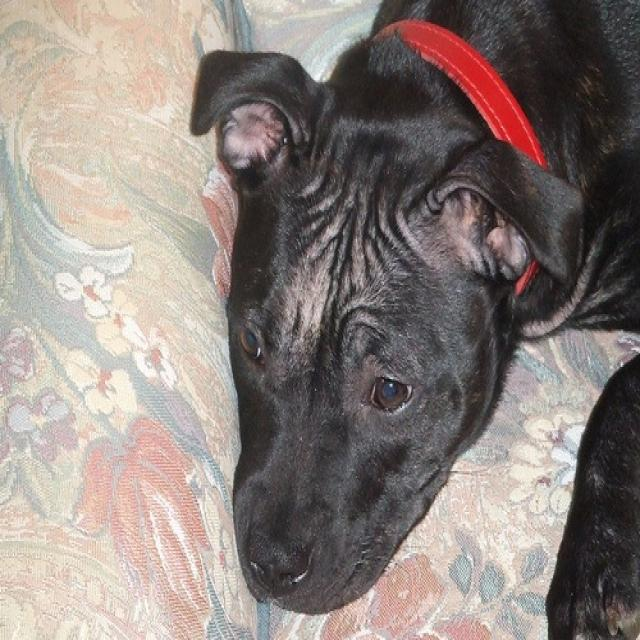dog: (187, 0, 639, 638)
